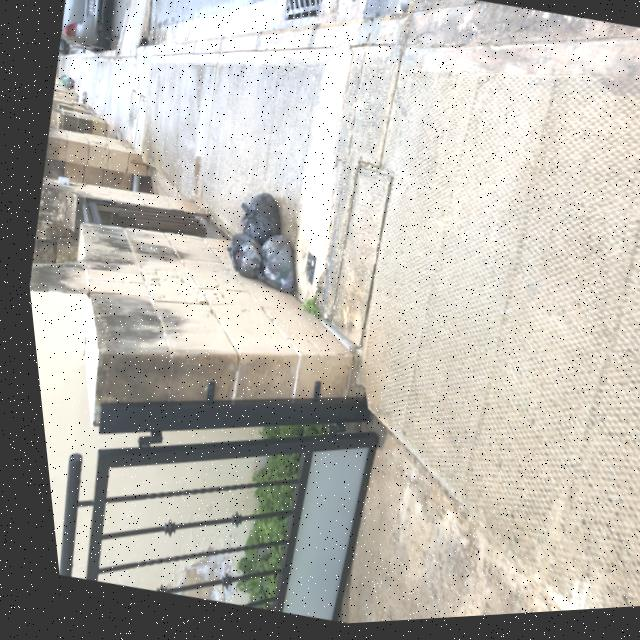Mixed Waste -Black Bag-: (247, 233, 302, 300), (230, 190, 286, 254), (217, 233, 262, 285)
